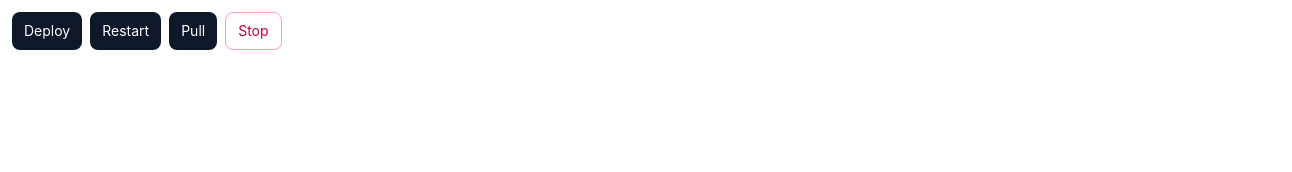
Test case: ActionBar › disables every action while one is running
Click the button "Deploy". click: (47, 31)
box: [12,12,82,50]
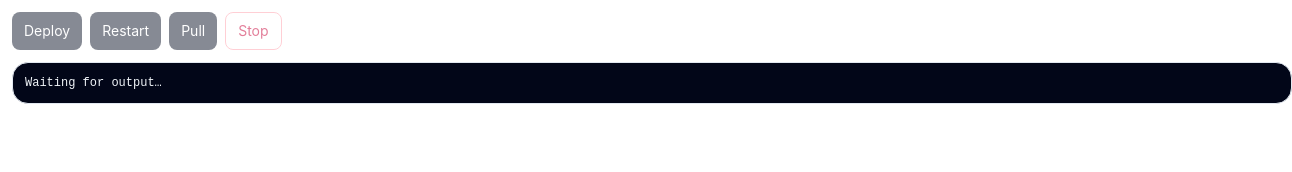
Expected: the button "Pull" is disabled, [169,12,217,50]
